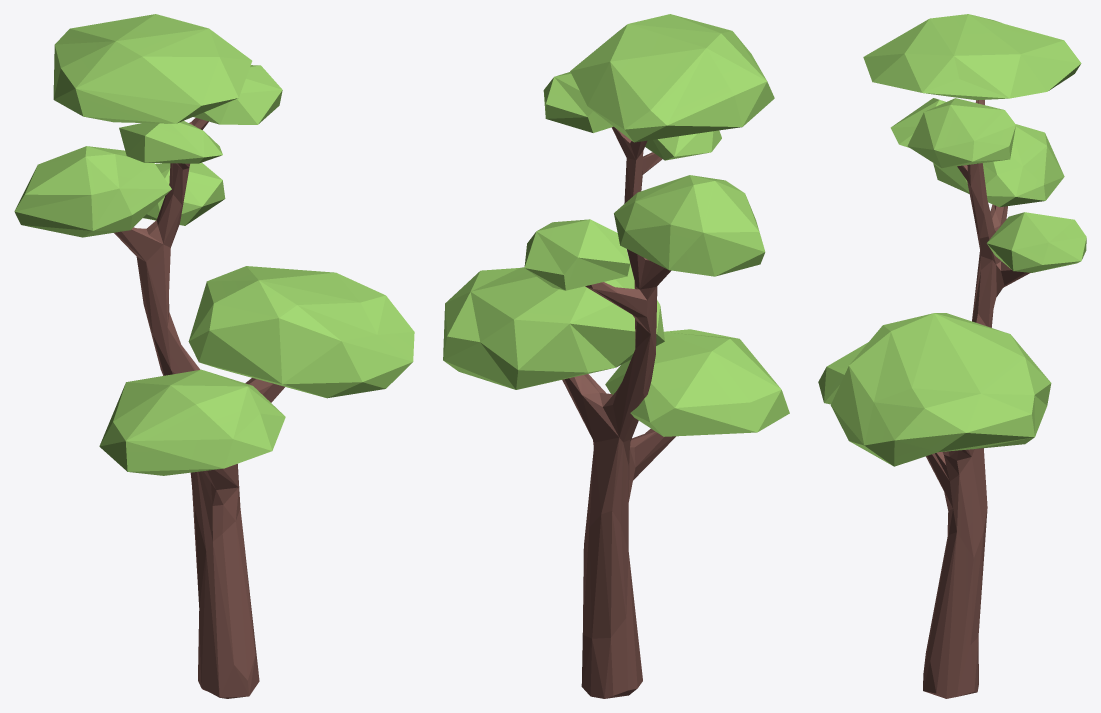
File: tree-open.glb
3 views of the same model, side by side, from view 1: azimuth 30°, elevation 25°; view 2: azimuth 150°, elevation 25°; view 3: azimuth 270°, elevation 25° (orthographic). The views are drawn at different scales.
Parts seen in each view (by area): view 1: leaves, trunk; view 2: leaves, trunk; view 3: leaves, trunk.
Part boxes in pixels (x1,y1,x2,y2): leaves: [14, 14, 414, 475]; trunk: [114, 118, 284, 698]; leaves: [443, 14, 789, 436]; trunk: [562, 126, 675, 698]; leaves: [818, 14, 1086, 466]; trunk: [923, 100, 1030, 698].
Bounding box in the file's own units: 4.75 × 8.9 × 3.45.
